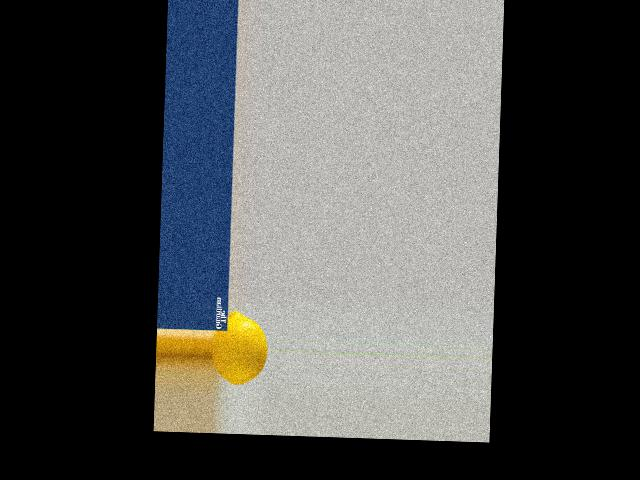lemon: (209, 306, 268, 390)
